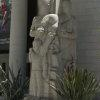Statue: (23, 13, 83, 71)
